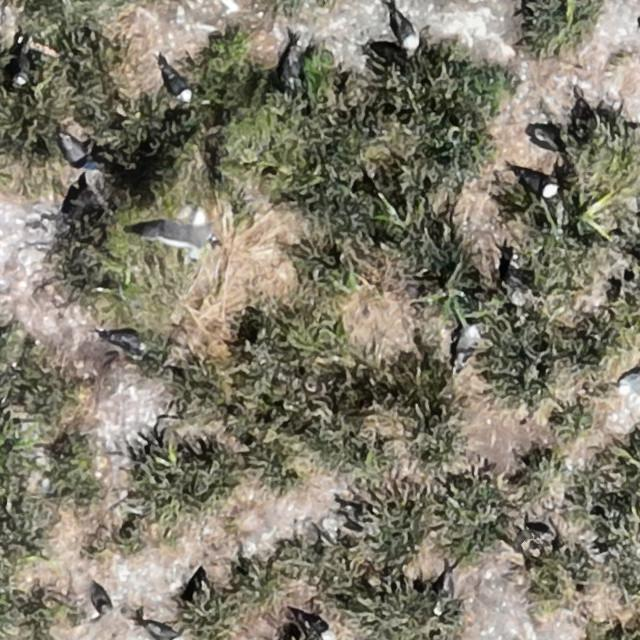F: (152, 207, 216, 251)
umineko: (523, 171, 556, 195), (396, 15, 418, 49), (458, 324, 481, 356), (166, 72, 190, 101), (62, 135, 84, 163), (112, 333, 144, 350), (148, 624, 181, 640)
